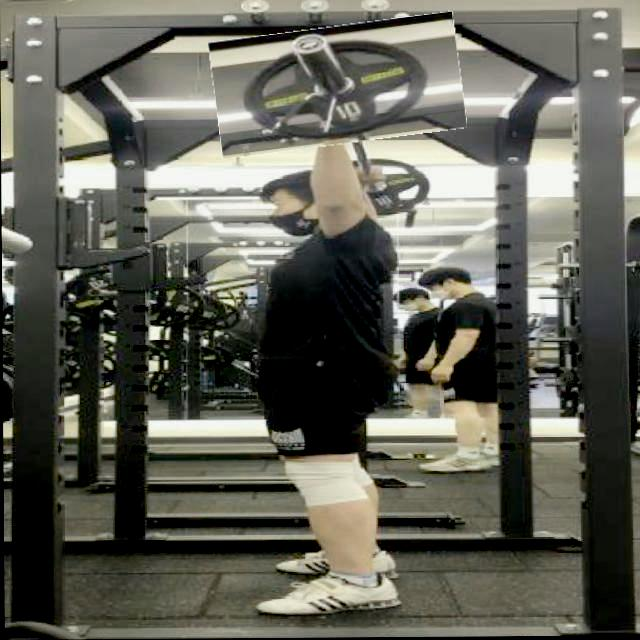barbell: (212, 20, 465, 153)
